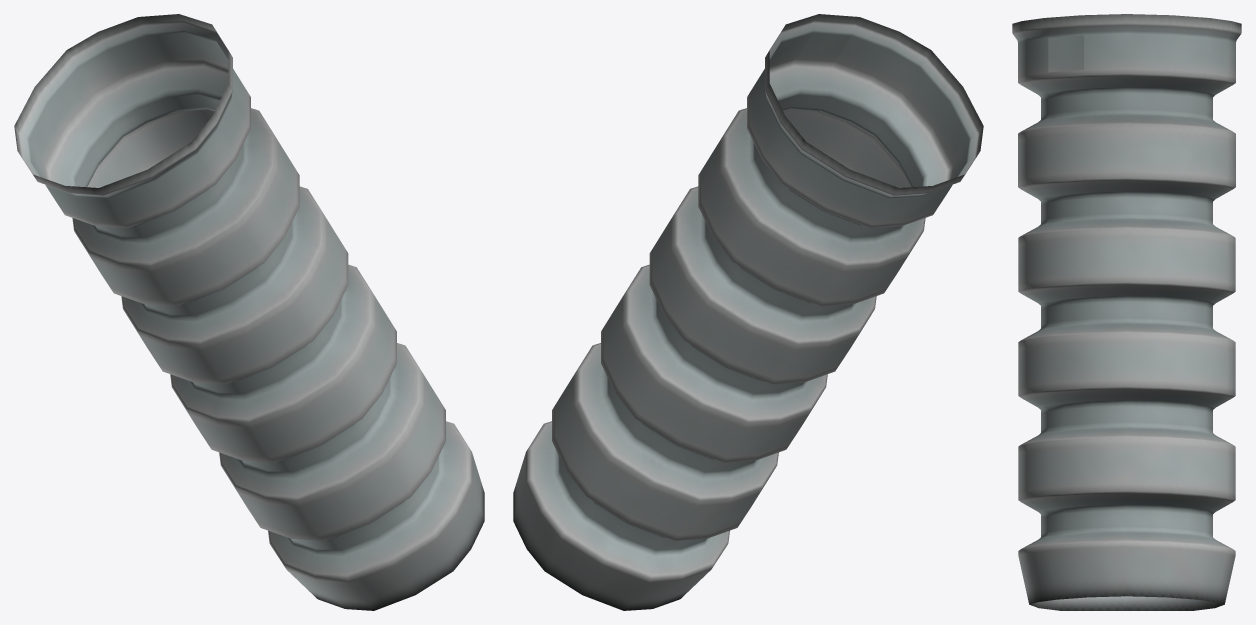
Rendered from neck.obj.
3 renders of one model, left to right at view 1: azimuth 30°, elevation 25°; view 2: azimuth 150°, elevation 25°; view 3: azimuth 270°, elevation 25°, orthographic. The views are drawn at different scales.
Parts seen in each view (by area): view 1: Useless_Dog__Neck; view 2: Useless_Dog__Neck; view 3: Useless_Dog__Neck.
Boxes of the visible parts, left/top/right/bottom form: Useless_Dog__Neck: left=14, top=14, right=484, bottom=610; Useless_Dog__Neck: left=513, top=14, right=983, bottom=610; Useless_Dog__Neck: left=1012, top=14, right=1241, bottom=610.
Size of the model in its own units: 0.6663 by 0.873 by 0.3298.
Materials: 1 (1 with a texture image).
